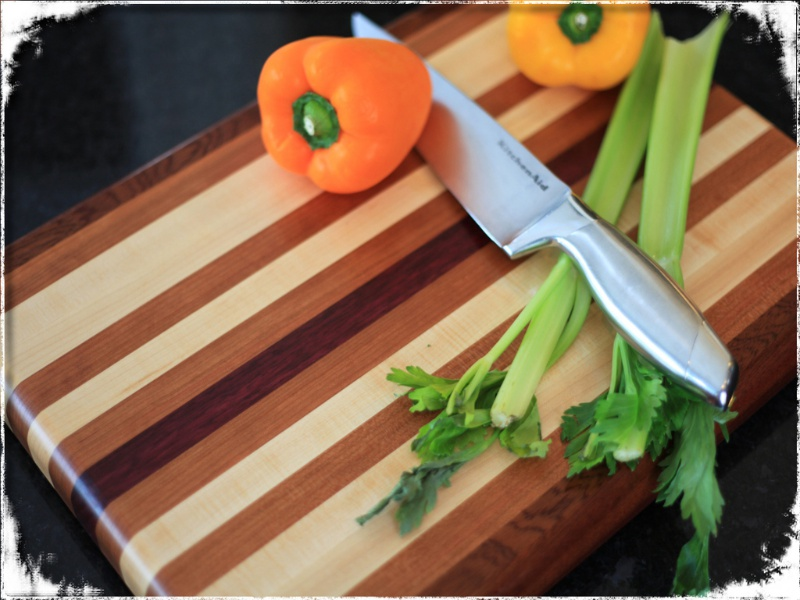knife: (347, 9, 741, 411)
